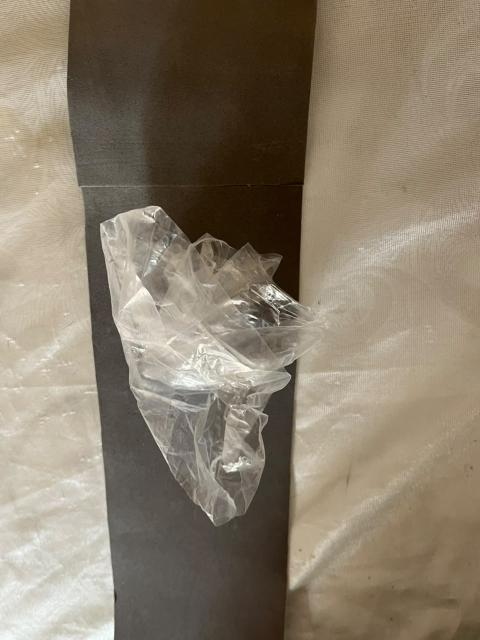LDPE: (77, 180, 350, 553)
